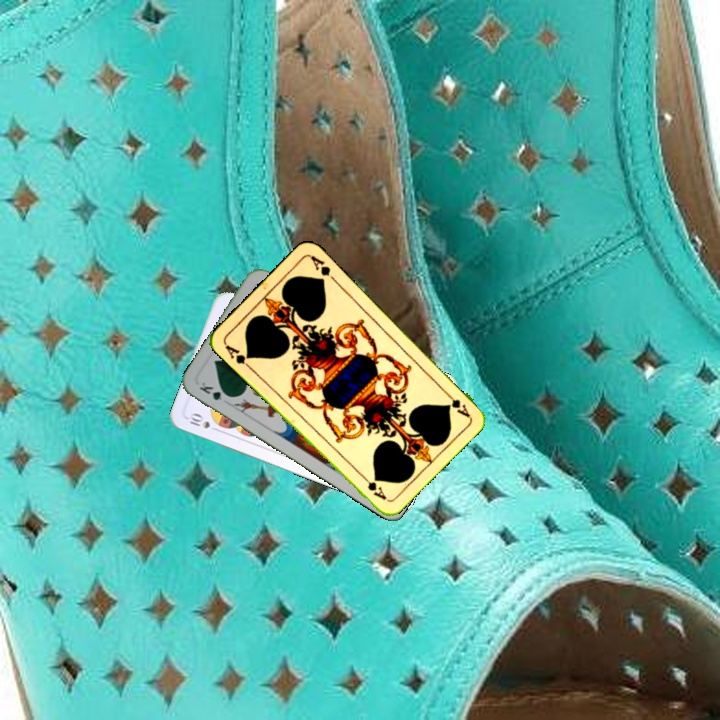GA: (221, 340, 254, 372), (440, 387, 472, 420)
GK: (195, 377, 234, 403)
S10: (183, 409, 222, 434)
